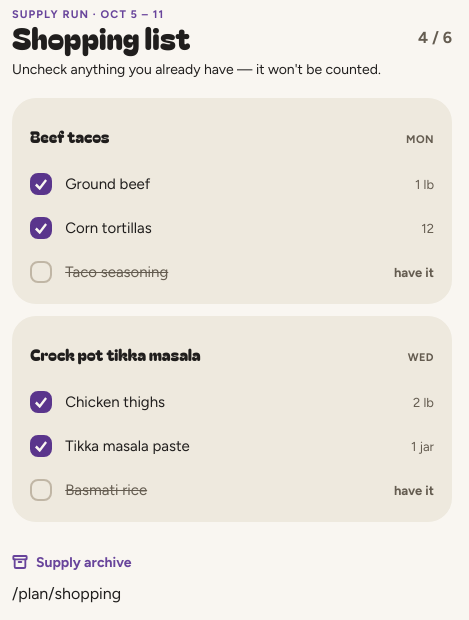
SupplyRunPage › toggles an item at once, then shows the counts the server answers with
What coordinates should you click on to do the following:
click the checkbox labelled "Taco seasoning"
I would click on:
 (41, 272)
Its box is [30, 261, 52, 283].
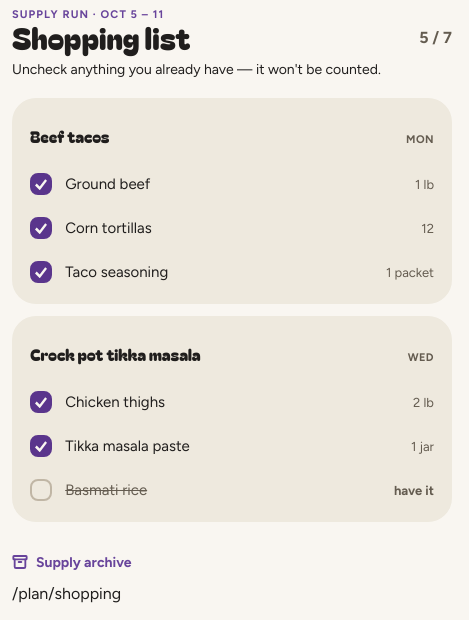
Result: the checkbox labelled "Taco seasoning" is checked at [30, 261, 52, 283]
Result: the text "1 packet" is shown at [386, 265, 434, 280]
Result: the text "5 / 7" is shown at [419, 28, 452, 47]
